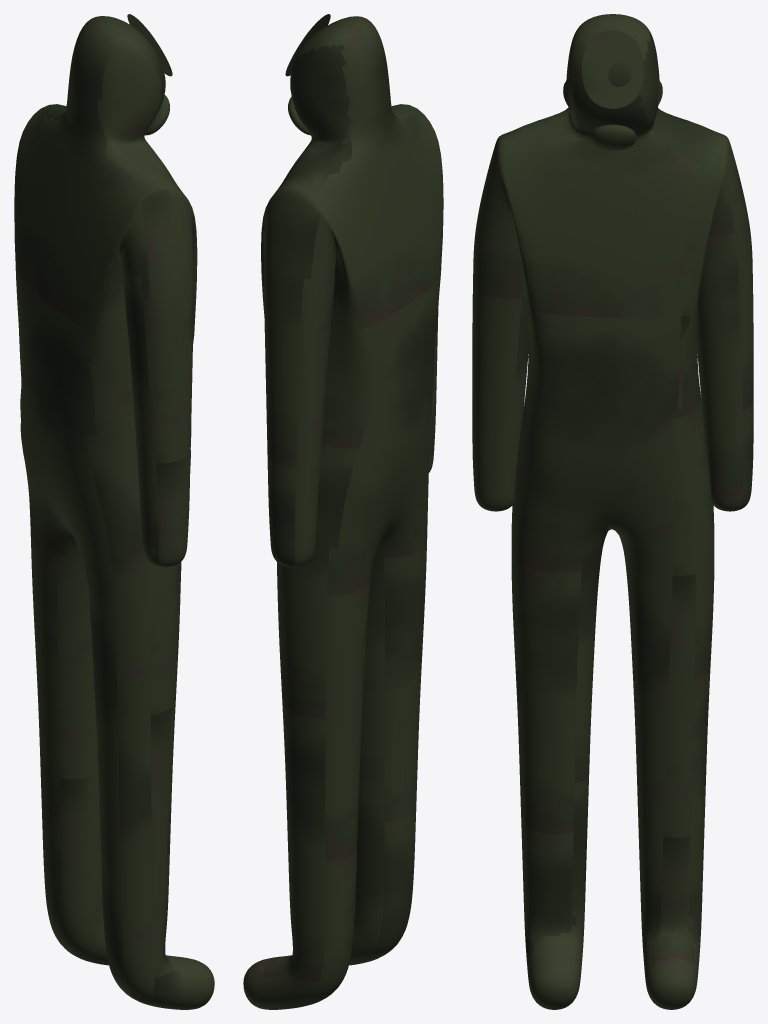
File: Zombie_Body.obj
3 renders of one model, left to right at view 1: azimuth 30°, elevation 25°; view 2: azimuth 150°, elevation 25°; view 3: azimuth 270°, elevation 25°, orthographic.
Size of the model in its own units: 0.2668 by 1.82 by 0.4807.
1 material, 1 textured.
